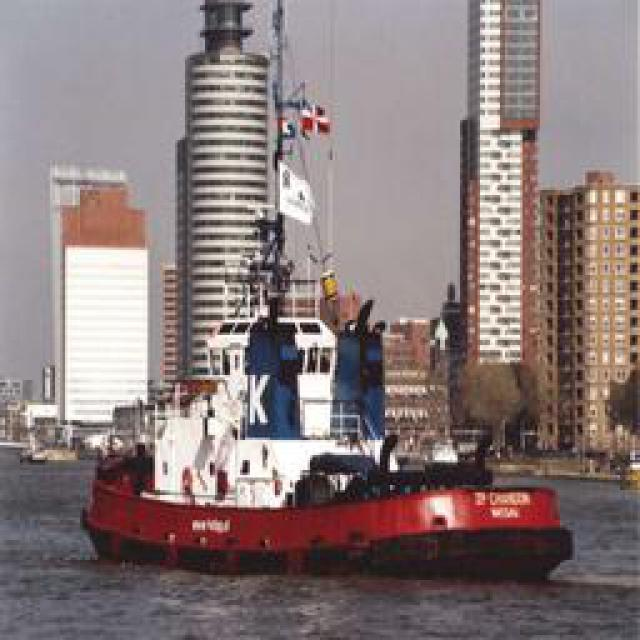Ship: (76, 337, 579, 575)
